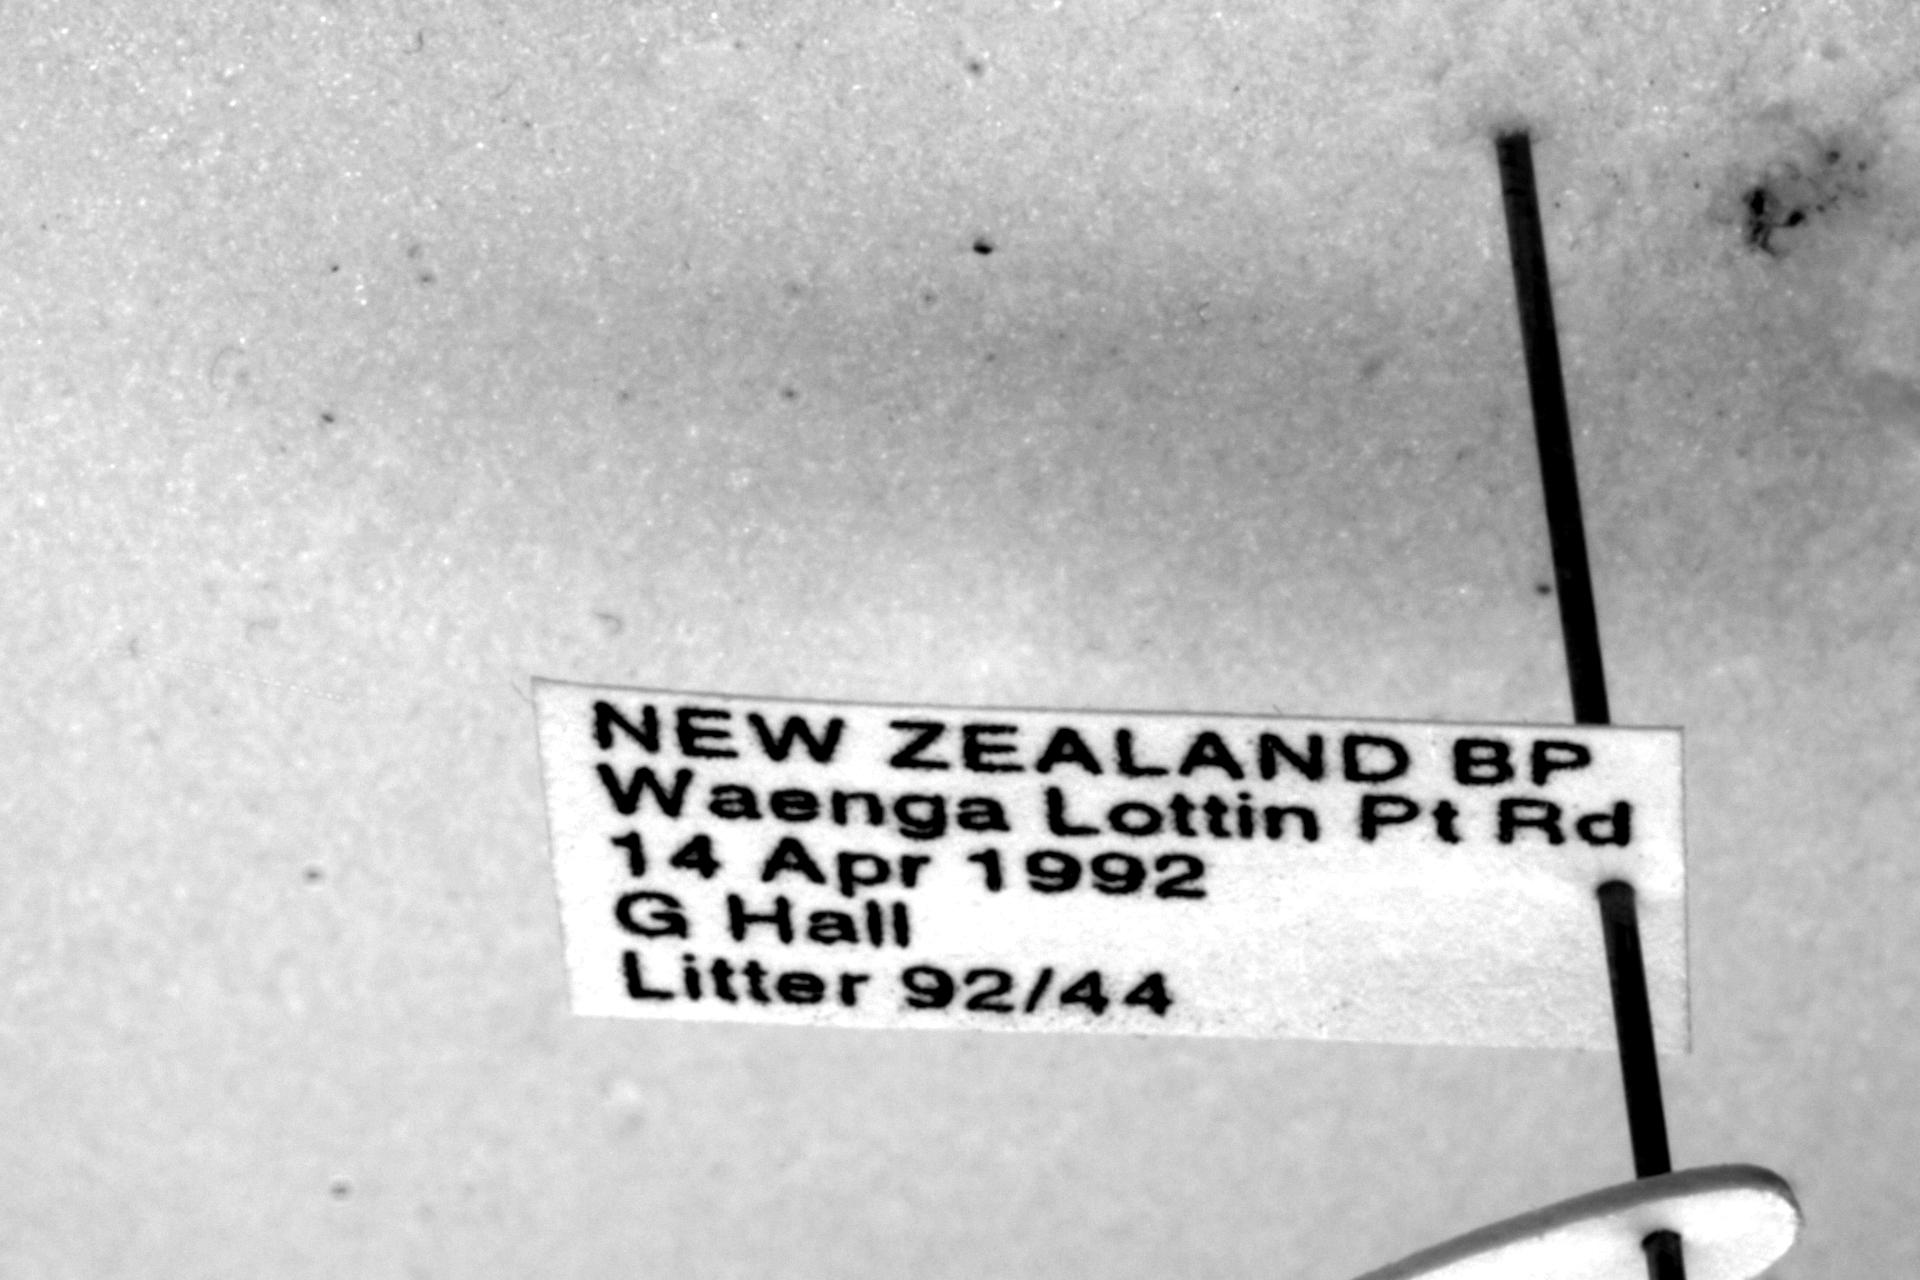typed_label: (532, 679, 1688, 1054)
